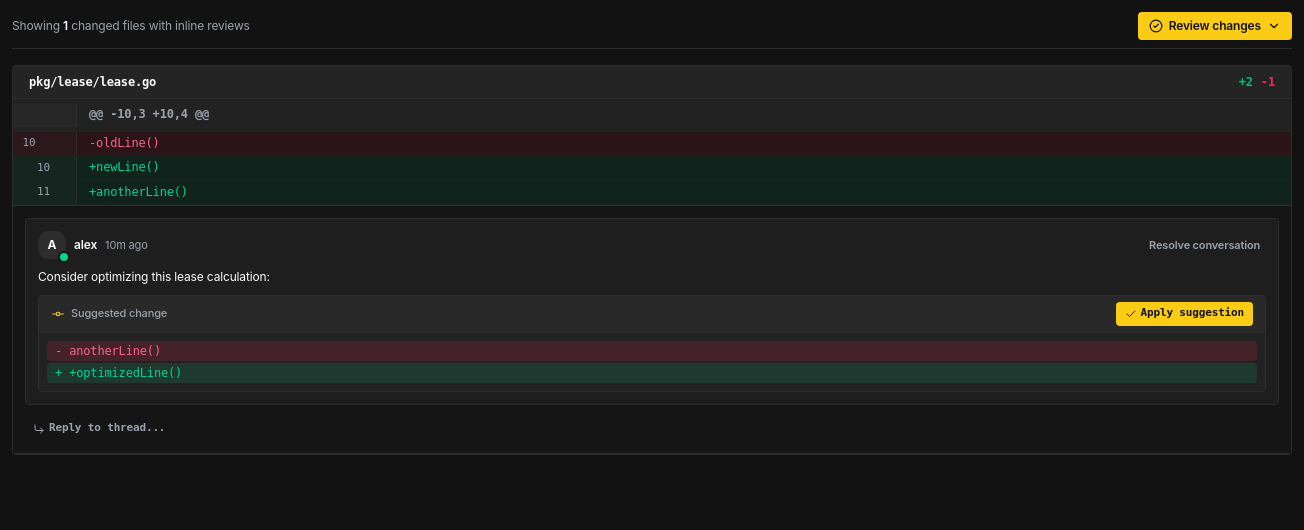
Test case: InlineDiffViewer Component › applies suggestion when clicking Apply suggestion button
Click the button "Apply suggestion": [1184, 314] box [1116,302,1253,326]
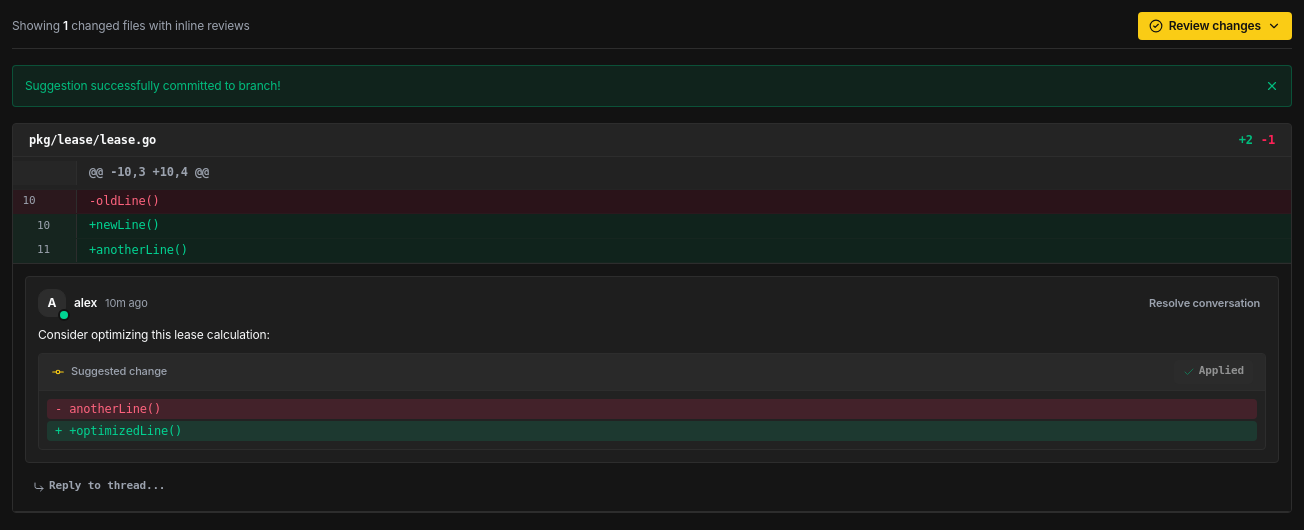
Expected: the text "Suggestion successfully committed to branch!" is shown, [25,78,280,94]
